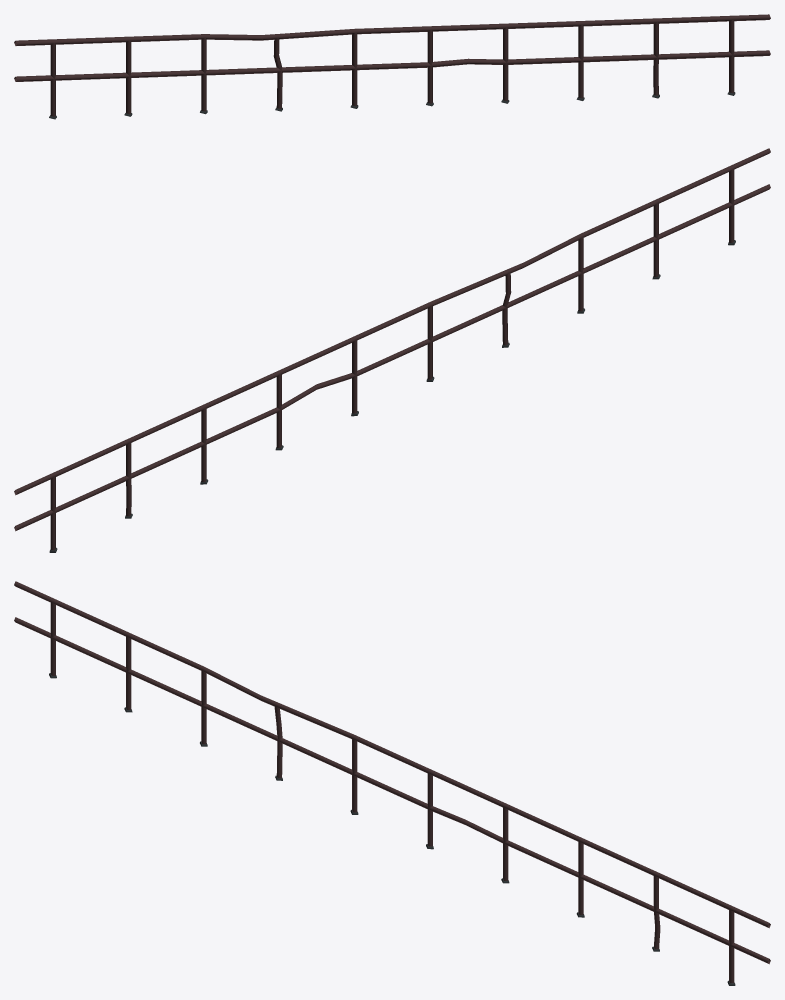
Rendered from SW_ENV_EL_Railing_Rise_10m.fbx.
The picture shows the model from 3 angles, top to bottom: view 1: azimuth 30°, elevation 25°; view 2: azimuth 210°, elevation 25°; view 3: azimuth 330°, elevation 25°; orthographic projection.
Visible parts, largest first — view 1: SW_ENV_EL_Railing_Rise_10m; view 2: SW_ENV_EL_Railing_Rise_10m; view 3: SW_ENV_EL_Railing_Rise_10m.
Part boxes in pixels (x1,y1,x2,y2): SW_ENV_EL_Railing_Rise_10m: (14,14,770,119); SW_ENV_EL_Railing_Rise_10m: (14,148,770,552); SW_ENV_EL_Railing_Rise_10m: (14,581,770,985).
Bounding box in the file's own units: 10 × 2.91 × 0.135.
